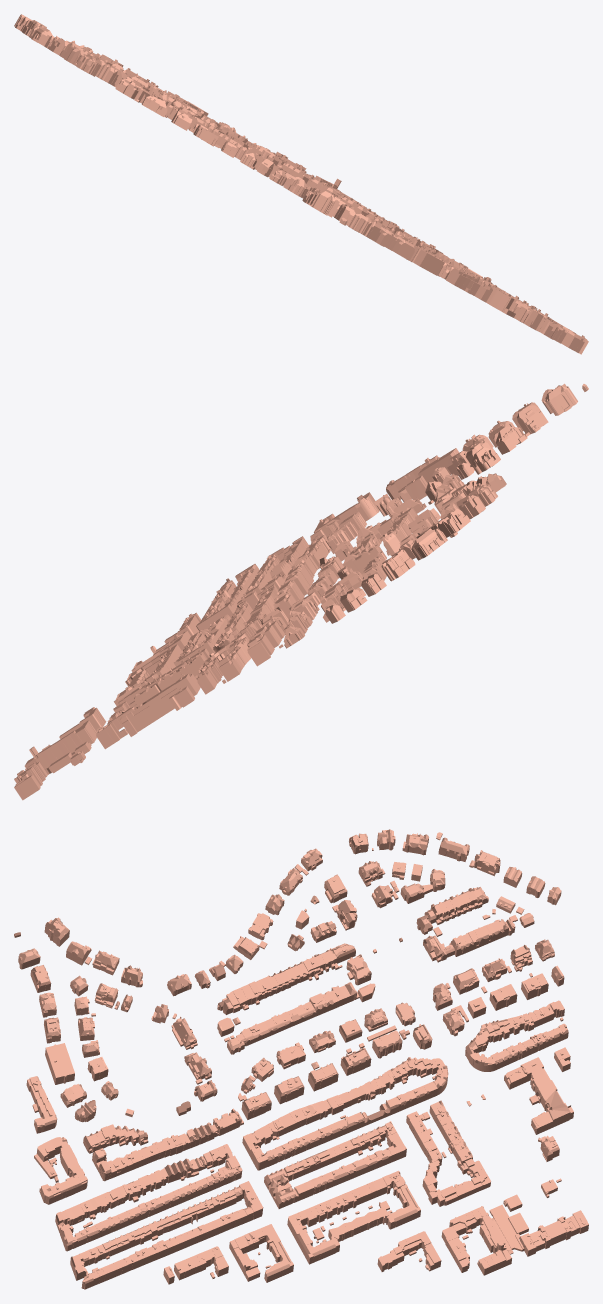
The picture shows the model from 3 angles, top to bottom: view 1: azimuth 30°, elevation 25°; view 2: azimuth 150°, elevation 25°; view 3: azimuth 270°, elevation 25°; orthographic projection. The views are drawn at different scales.
Size of the model in its own units: 1.59e+07 by 1.15e+07 by 2.09e+07.
